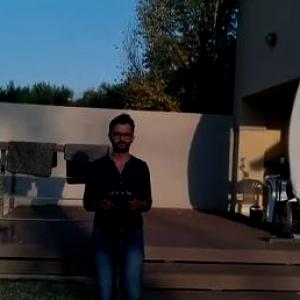follow: (75, 107, 158, 299)
